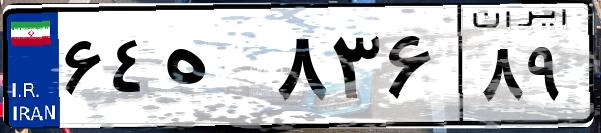3: (330, 28, 385, 110)
4: (110, 28, 158, 98)
6: (385, 28, 445, 110), (57, 26, 110, 100)
8: (270, 28, 330, 110), (475, 38, 525, 113)
9: (525, 38, 570, 115)
ه: (158, 20, 270, 120)
